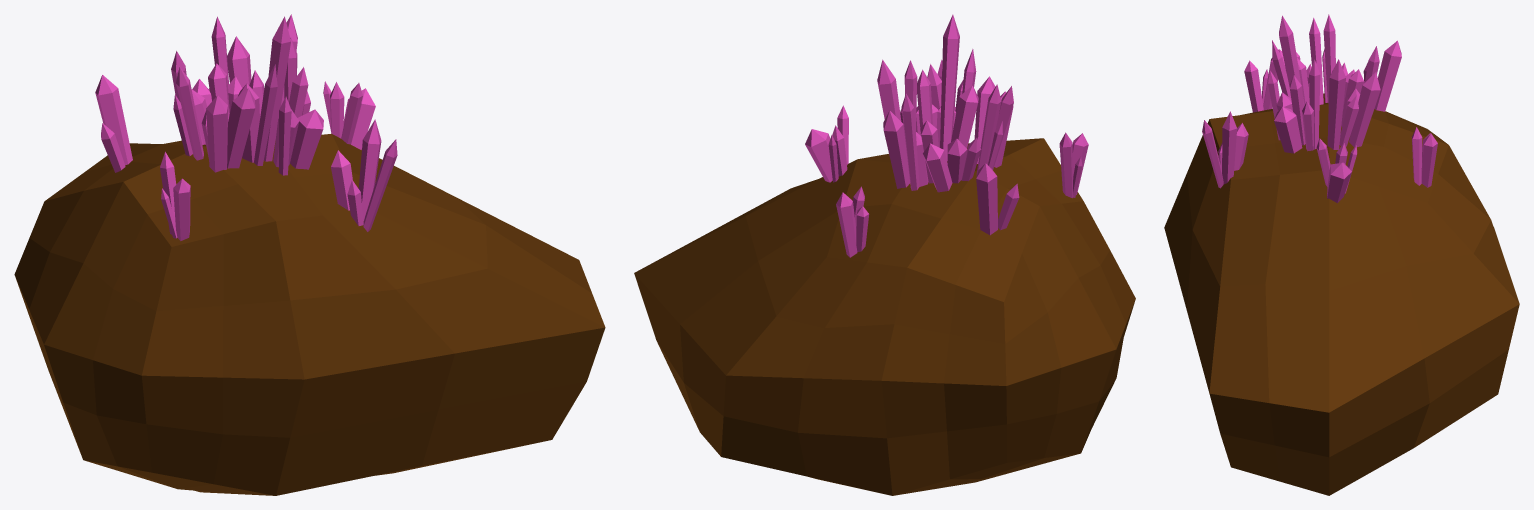
File: asteroid_crystal_3_1.fbx
3 views of the same model, side by side, from view 1: azimuth 30°, elevation 25°; view 2: azimuth 150°, elevation 25°; view 3: azimuth 270°, elevation 25° (orthographic). The views are drawn at different scales.
Visible parts, largest first — view 1: crystal_3_1; view 2: crystal_3_1; view 3: crystal_3_1.
Part boxes in pixels (x1,y1,x2,y2): crystal_3_1: (14,14,605,495); crystal_3_1: (634,14,1135,495); crystal_3_1: (1164,14,1519,495).
Size of the model in its own units: 1422 by 1230 by 1035.
